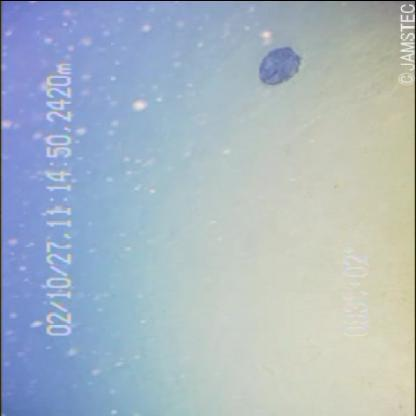Rác: (228, 40, 312, 96)
